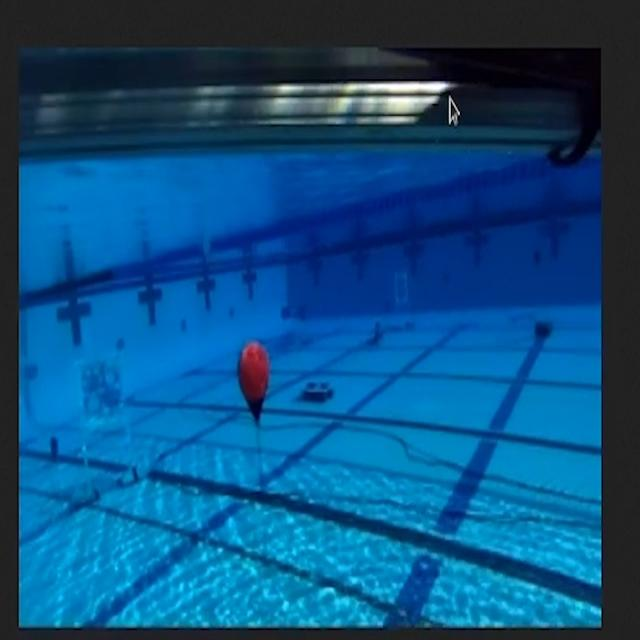Buoy: (236, 343, 276, 428)
